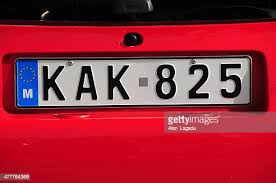Number plates: (11, 52, 256, 111)
